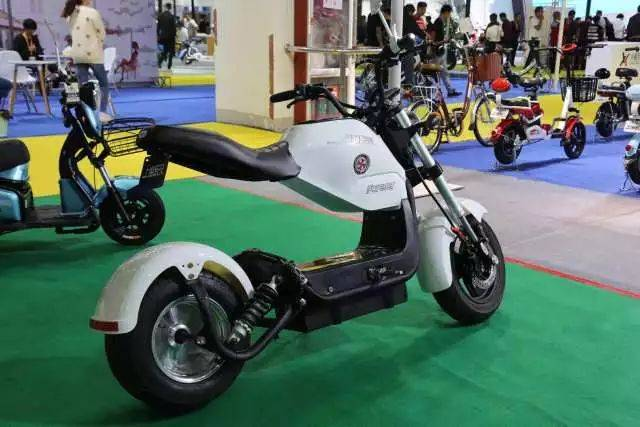电动车: (109, 31, 526, 414), (1, 54, 172, 239), (485, 42, 583, 174)
